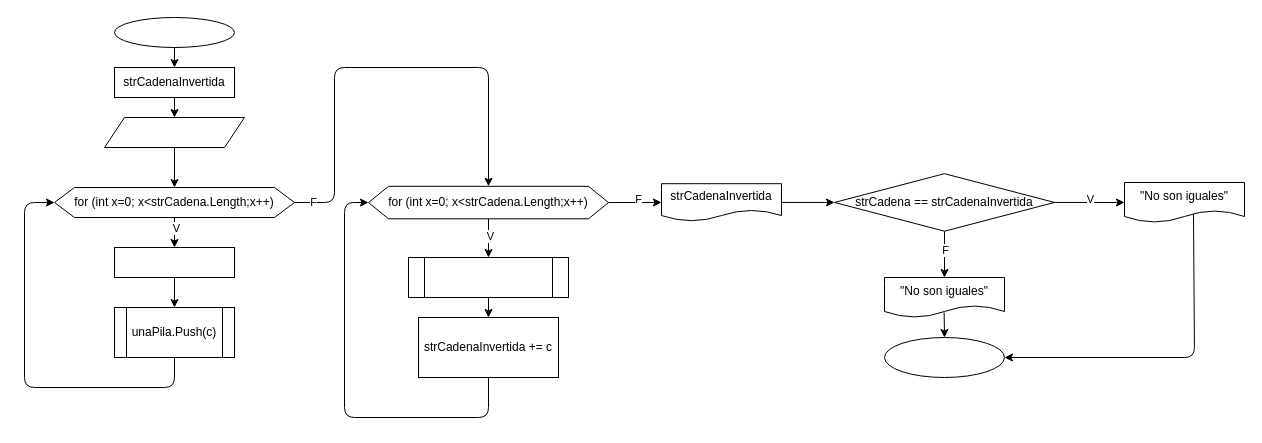
This 1262x443 diagram has some shape labels left out. Here are the shapes that lost their labels. From the top down, the centre of each, then its label:
At [174,32]: "INICIO".
At [174,132]: "strCadena".
At [174,262]: "char c = strCadena[x]".
At [488,277]: "char c = unaPila.Pop()".
At [944,357]: "FIN".
